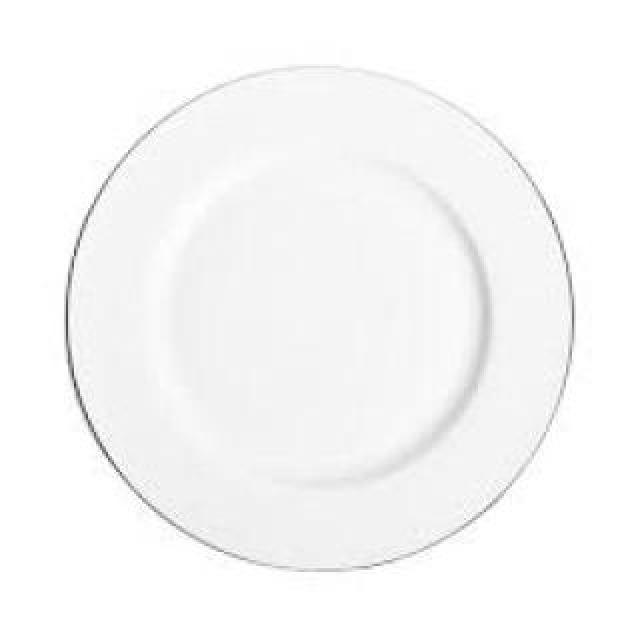plate: (42, 51, 602, 593)
